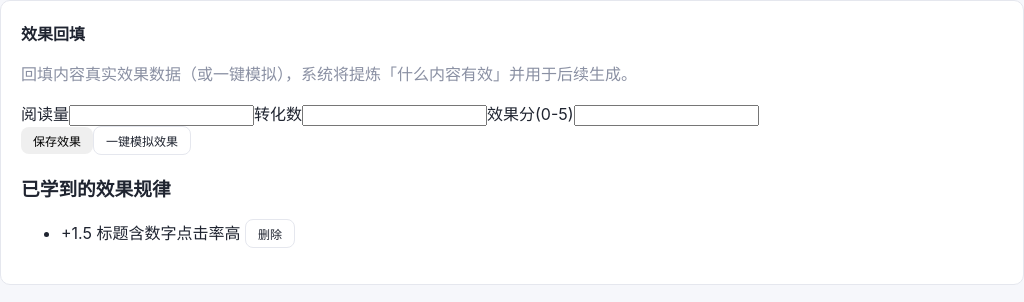
Scenario: FeedbackPanel › 品牌关联时展示已学规律并可删除
Expected: the list item "标题含数字点击率高" is shown, [96, 223, 240, 243]
Click the button "删除" at (270, 234), box [245, 219, 295, 248]
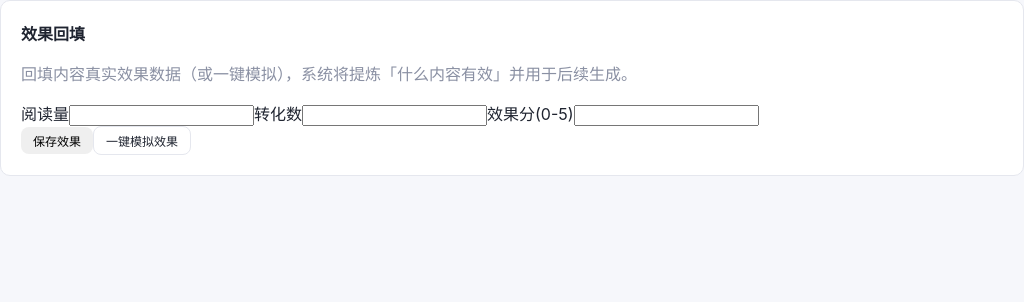
Result: the list item "标题含数字点击率高" is gone
